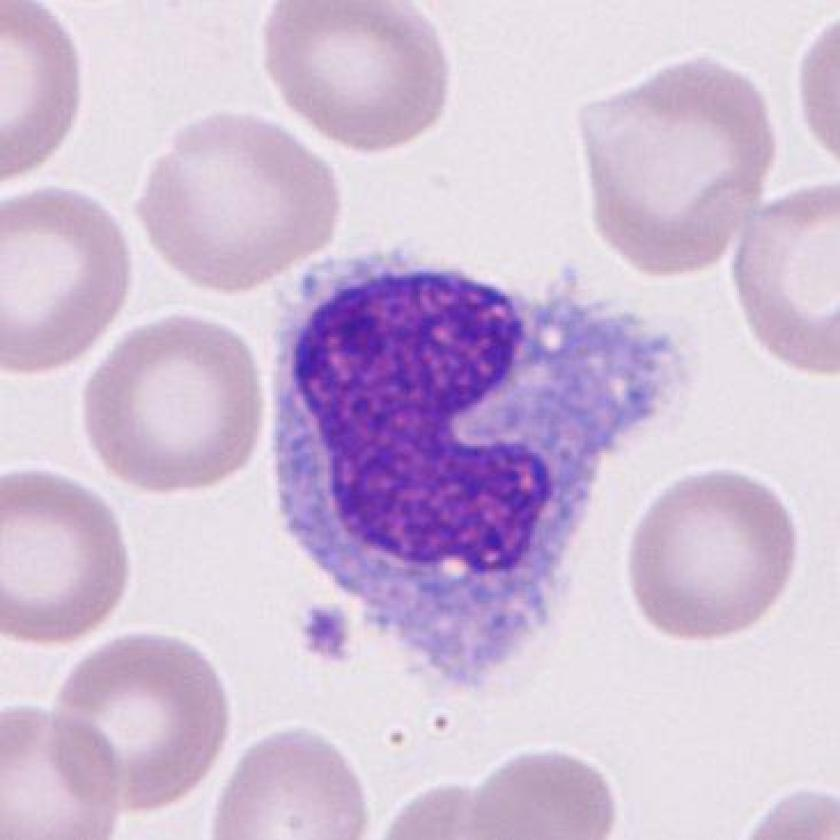monocyte: (251, 236, 701, 721)
